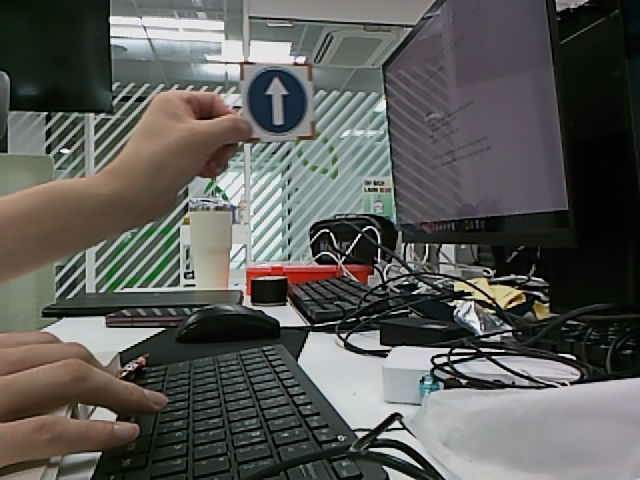go: (248, 68, 309, 135)
